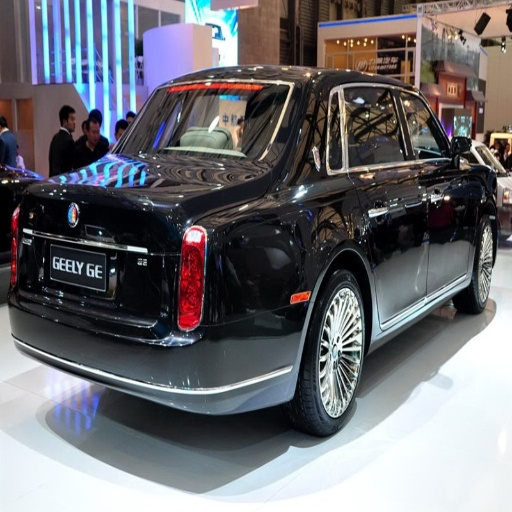back_bumper: (102, 270, 314, 414)
back_right_door: (318, 83, 428, 321)
back_right_light: (178, 225, 207, 316)
tailgate: (55, 262, 151, 321), (20, 184, 81, 273)
trunk: (29, 156, 200, 317)
